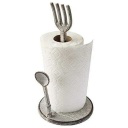fork: (44, 2, 84, 40)
